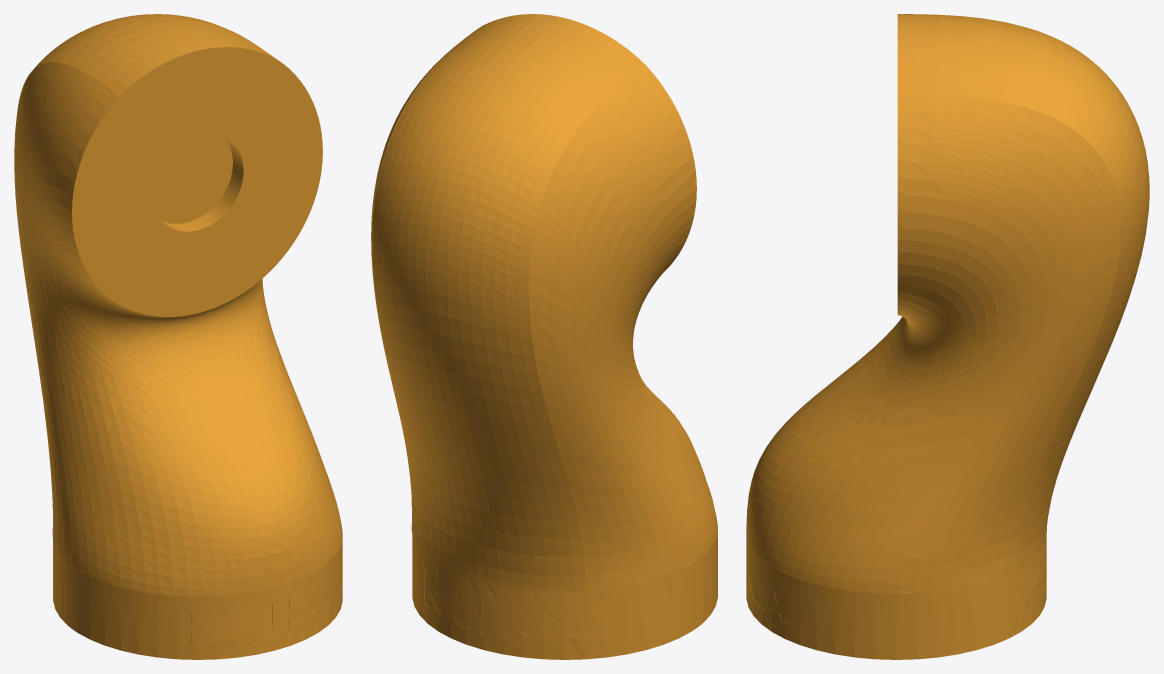
3 views of the same model, side by side, from view 1: azimuth 30°, elevation 25°; view 2: azimuth 150°, elevation 25°; view 3: azimuth 270°, elevation 25° (orthographic). The views are drawn at different scales.
Visible parts, largest first — view 1: Link 3; view 2: Link 3; view 3: Link 3.
Part boxes in pixels (bbox=[...]): Link 3: bbox=[14, 14, 342, 659]; Link 3: bbox=[371, 14, 717, 659]; Link 3: bbox=[746, 14, 1149, 659].
Bounding box in the file's own units: 0.136 × 0.1826 × 0.2935.
